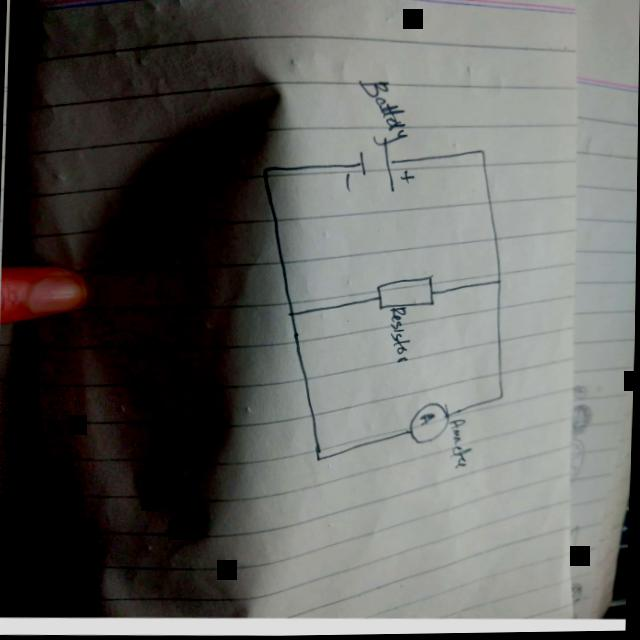junction: (258, 165, 274, 176), (472, 148, 487, 159), (283, 309, 298, 320), (491, 278, 506, 289), (494, 393, 509, 404), (311, 454, 326, 465)
resistor: (374, 275, 439, 313)
source: (341, 135, 416, 197)
text: (351, 77, 414, 149), (445, 419, 477, 470), (386, 306, 412, 366)
